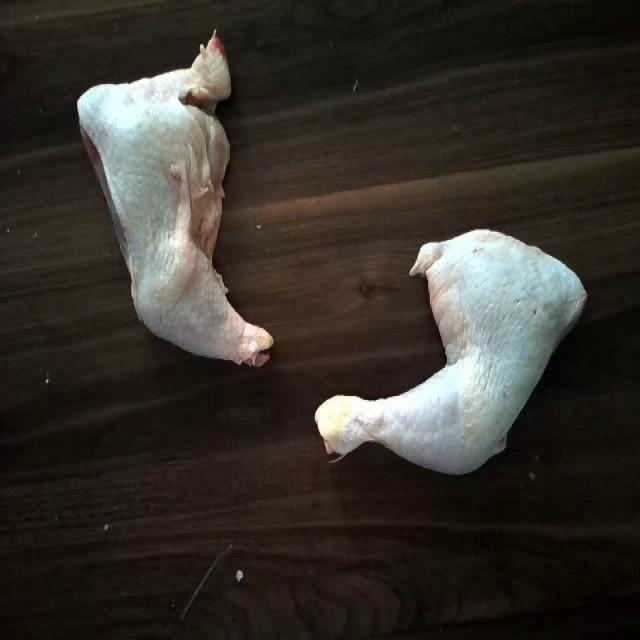quater: (306, 205, 595, 488), (79, 47, 274, 369)
